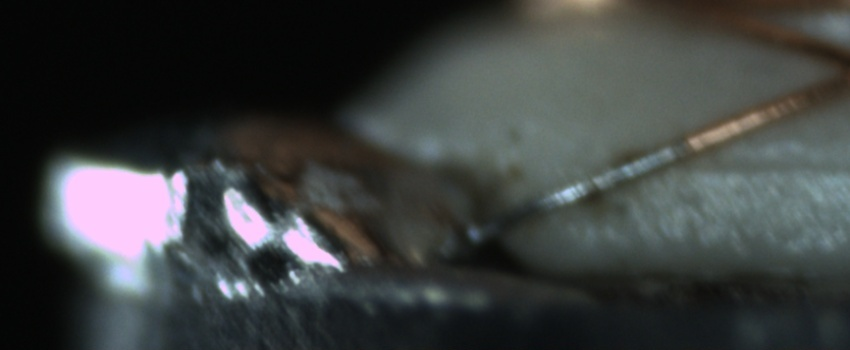DL: (687, 144, 850, 194)
TS: (456, 136, 690, 248)
